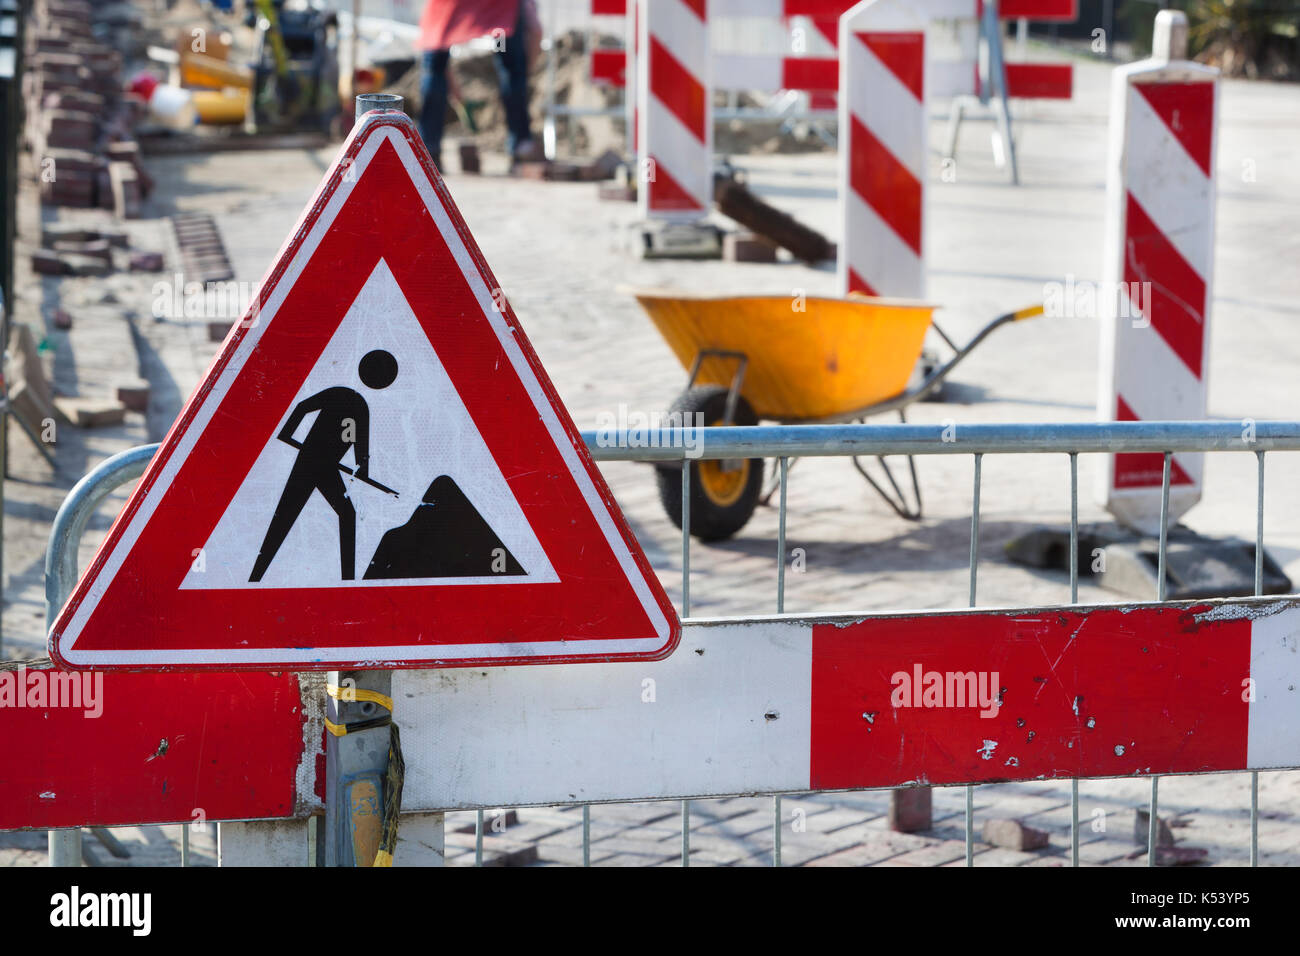caution: (48, 113, 677, 658)
